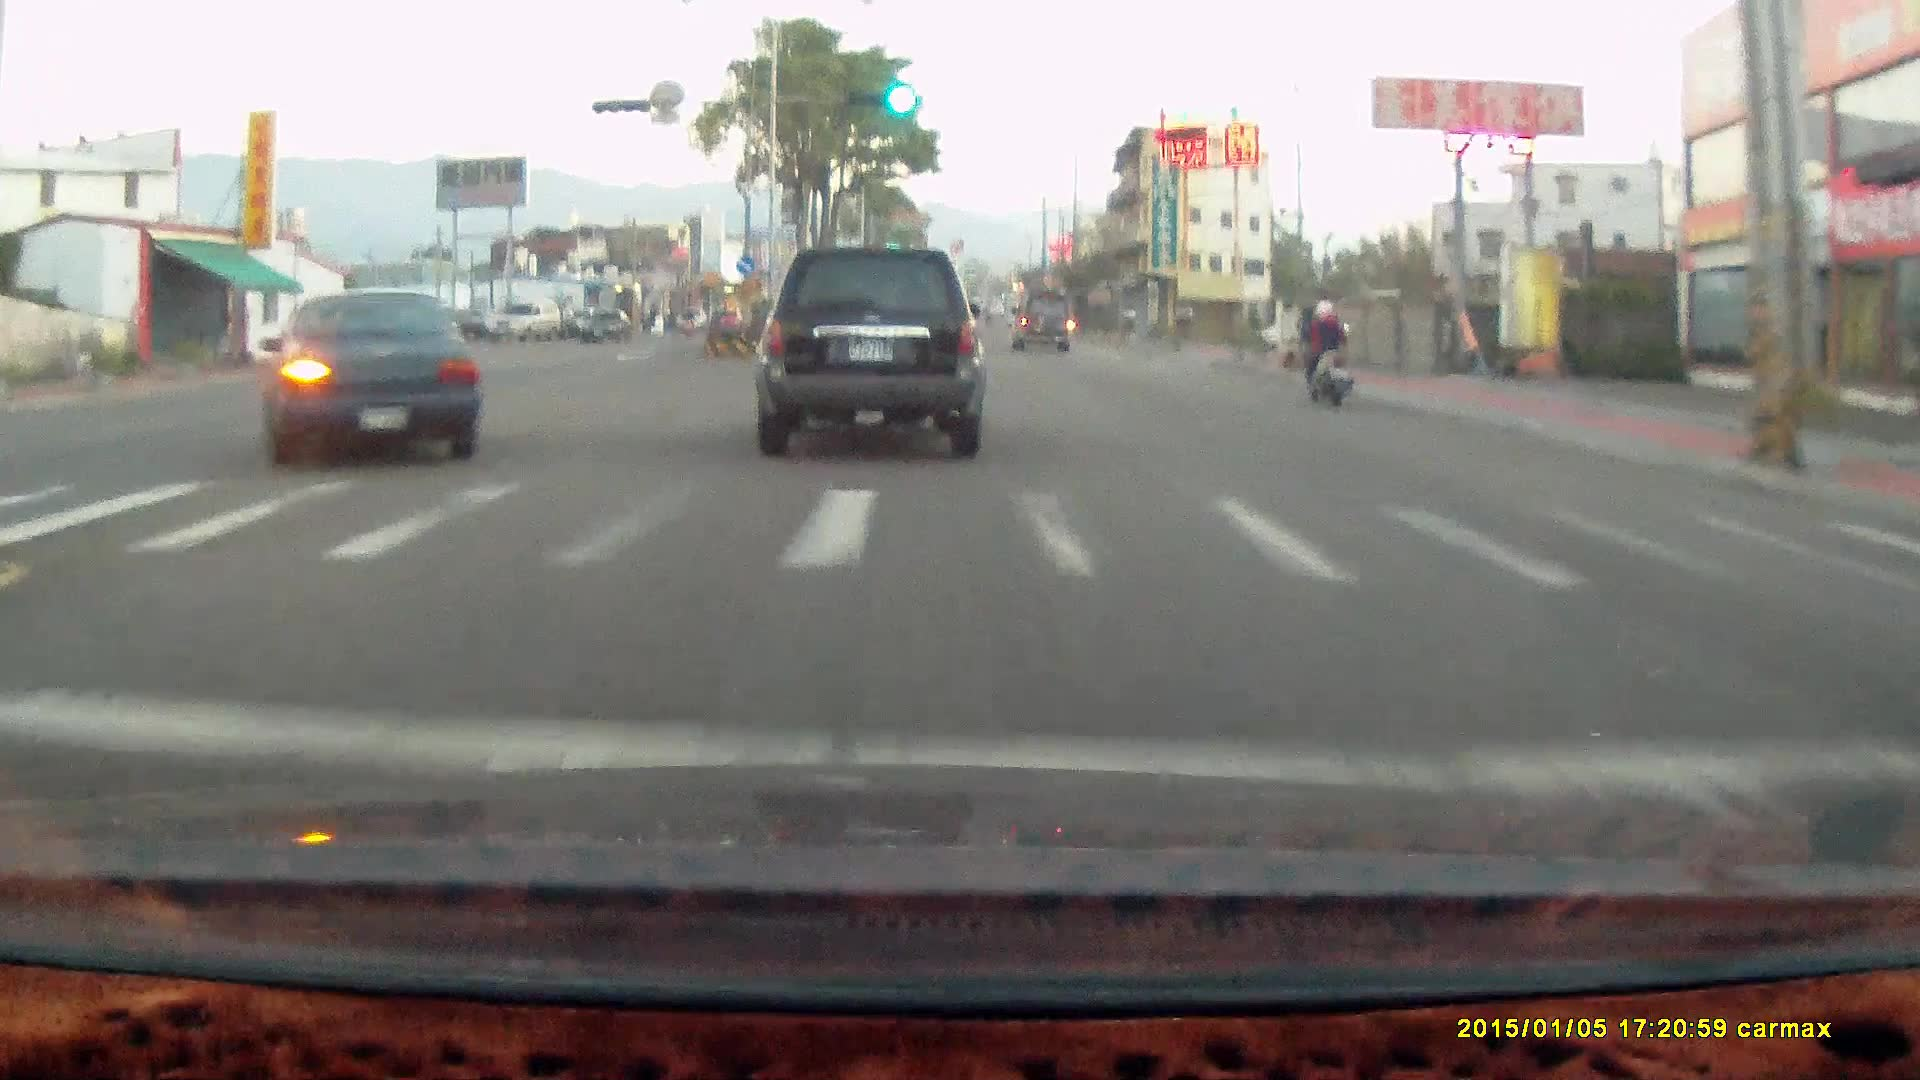rider: (1287, 290, 1365, 421), (1298, 293, 1354, 406)
vehicle: (760, 247, 990, 459), (752, 245, 981, 457), (259, 288, 482, 468), (265, 284, 483, 470), (1015, 292, 1076, 361), (1008, 292, 1072, 352), (481, 300, 560, 345), (485, 299, 559, 343), (578, 305, 631, 340)
